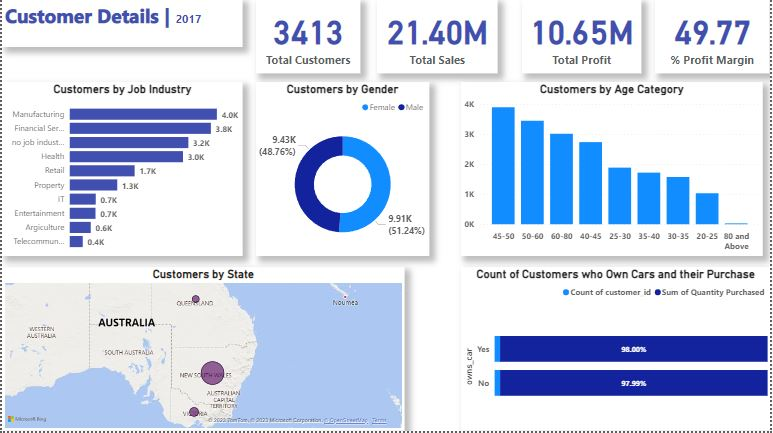

What the dashboard file says about the page in this screenshot:
{"tool":"powerbi","page":{"name":"Customer Analysis","canvas":[1280,720],"ordinal":0},"visuals":[{"type":"card","fields":{"Values":["Count(Working Dataset.customer_id)"]},"box":[422.9,0,174.3,124.3],"z":0},{"type":"map","title":"Customers by State","fields":{"Category":["Working Dataset.state"],"Size":["Count(Working Dataset.customer_id)"]},"box":[0,447.1,671.4,272.9],"z":1000},{"type":"textbox","box":[0,0,401.4,80],"z":2000},{"type":"card","fields":{"Values":["Sum(Working Dataset.Profit)"]},"box":[867.1,0,198.6,124.3],"z":3000},{"type":"card","fields":{"Values":["Sum(Working Dataset.list_price)"]},"box":[624.3,0,201.4,124.3],"z":4000},{"type":"card","fields":{"Values":["Working Dataset.% Profit Margin"]},"box":[1088.6,0,191.4,124.3],"z":5000},{"type":"clusteredBarChart","title":"Customers by Job Industry","fields":{"Y":["CountNonNull(Working Dataset.customer_id)"],"Category":["Working Dataset.job_industry_category"]},"box":[0,138.6,401.4,290],"z":6000},{"type":"donutChart","title":"Customers by Gender","fields":{"Category":["Working Dataset.gender"],"Y":["CountNonNull(Working Dataset.customer_id)"]},"box":[422.9,138.6,288.6,290],"z":7000},{"type":"clusteredColumnChart","title":"Customers by Age Category","fields":{"Y":["CountNonNull(Working Dataset.customer_id)"],"Category":["Working Dataset.Age Group"]},"box":[764.3,138.6,502.9,290],"z":8000},{"type":"hundredPercentStackedBarChart","title":"Count of Customers who Own Cars and their Purchase","fields":{"Category":["Working Dataset.owns_car"],"Y":["CountNonNull(Working Dataset.customer_id)","Sum(Working Dataset.Quantity Purchased)"]},"box":[764.3,447.1,515.7,272.9],"z":9000}]}

Visuals, with their boxes in screenshot pixels (x1, y1, x2, y2), scaled from the page's 1280x720 canvas onto the 773x433 screenshot:
card - Count(Working Dataset.customer_id): {"x1": 255, "y1": 0, "x2": 361, "y2": 75}
"Customers by State" map: {"x1": 0, "y1": 269, "x2": 405, "y2": 432}
textbox: {"x1": 0, "y1": 0, "x2": 242, "y2": 48}
card - Sum(Working Dataset.Profit): {"x1": 524, "y1": 0, "x2": 644, "y2": 75}
card - Sum(Working Dataset.list_price): {"x1": 377, "y1": 0, "x2": 499, "y2": 75}
card - Working Dataset.% Profit Margin: {"x1": 657, "y1": 0, "x2": 772, "y2": 75}
"Customers by Job Industry" clusteredBarChart: {"x1": 0, "y1": 83, "x2": 242, "y2": 258}
"Customers by Gender" donutChart: {"x1": 255, "y1": 83, "x2": 430, "y2": 258}
"Customers by Age Category" clusteredColumnChart: {"x1": 462, "y1": 83, "x2": 765, "y2": 258}
"Count of Customers who Own Cars and their Purchase" hundredPercentStackedBarChart: {"x1": 462, "y1": 269, "x2": 772, "y2": 432}
